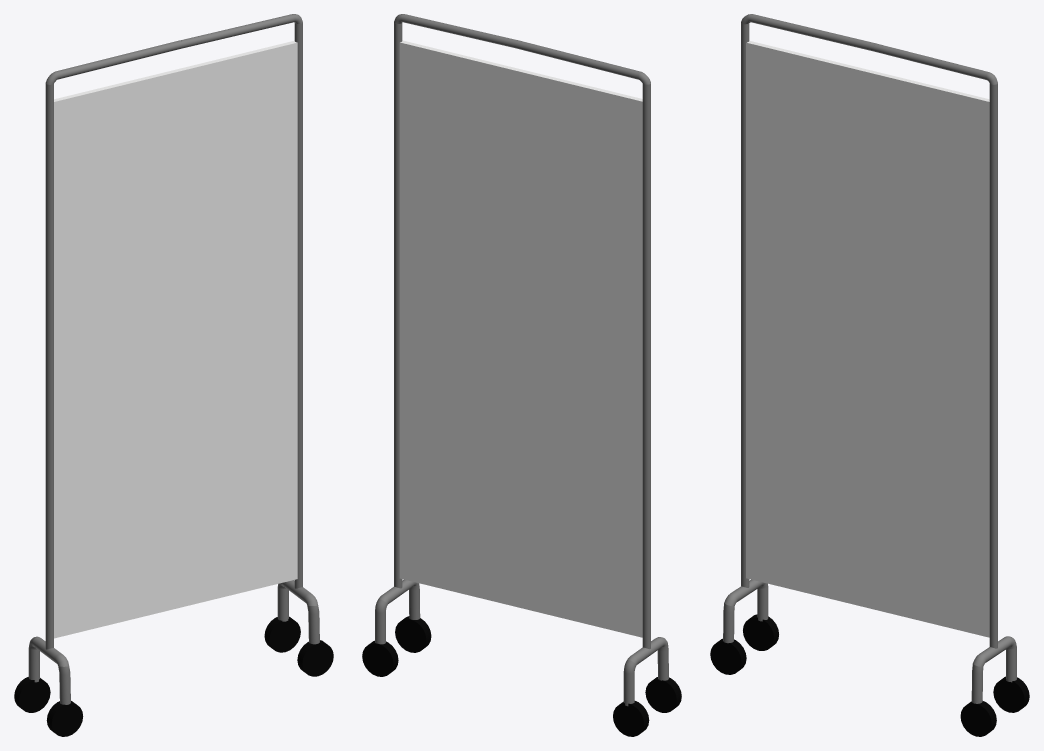
File: SinglePortableScreen.fbx
3 renders of one model, left to right at view 1: azimuth 30°, elevation 25°; view 2: azimuth 150°, elevation 25°; view 3: azimuth 330°, elevation 25°, orthographic.
Parts seen in each view (by area): view 1: pCylinder2; view 2: pCylinder2; view 3: pCylinder2.
Boxes of the visible parts, bbox=[...] form: pCylinder2: bbox=[14, 14, 333, 736]; pCylinder2: bbox=[362, 14, 681, 736]; pCylinder2: bbox=[710, 14, 1029, 736].
Bounding box in the file's own units: 88.03 × 194 × 20.71.
Materials: 1 (1 with a texture image).
